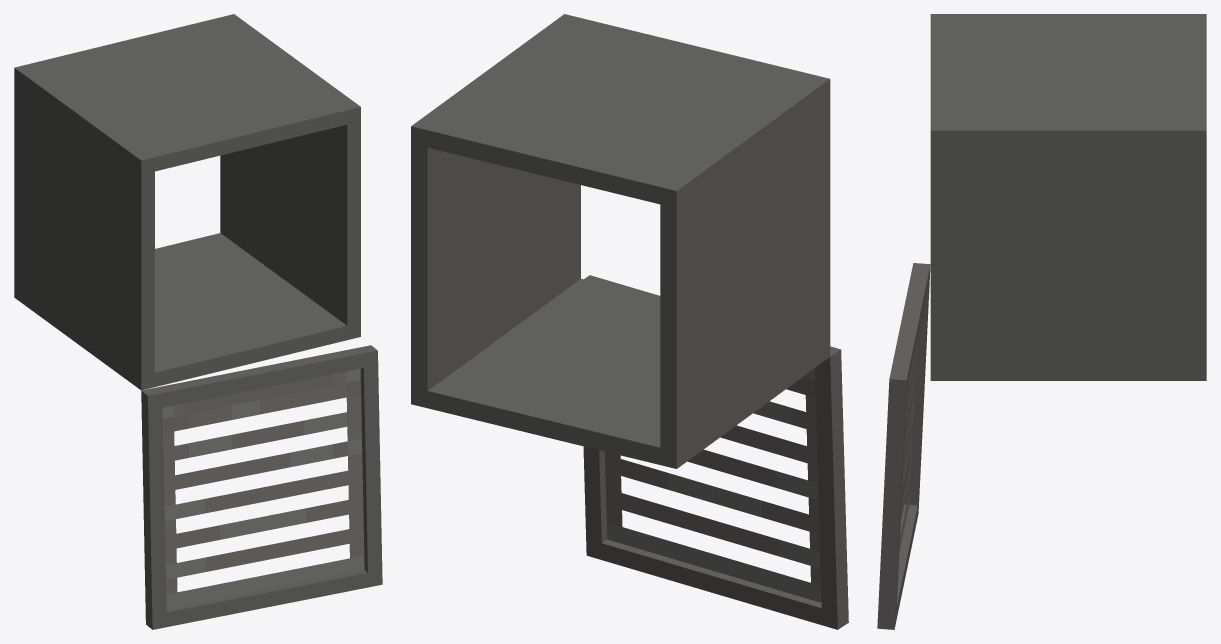
The model's file is vent_open_wide.glb.
3 renders of one model, left to right at view 1: azimuth 30°, elevation 25°; view 2: azimuth 150°, elevation 25°; view 3: azimuth 270°, elevation 25°, orthographic. The views are drawn at different scales.
Parts seen in each view (by area): view 1: vent_door_open_2, plane, door3; view 2: vent_door_open_2, plane, door3; view 3: vent_door_open_2, door3, plane.
Part boxes in pixels (<box>): vent_door_open_2: <box>14,14,360,390</box>; plane: <box>162,368,364,608</box>; door3: <box>141,345,382,629</box>; vent_door_open_2: <box>411,14,830,468</box>; plane: <box>605,369,821,602</box>; door3: <box>583,275,848,629</box>; vent_door_open_2: <box>930,14,1206,380</box>; door3: <box>877,263,930,629</box>; plane: <box>899,343,916,551</box>.
Size of the model in its own units: 1.01 by 2 by 1.19.
Materials: 1 (1 with a texture image).
